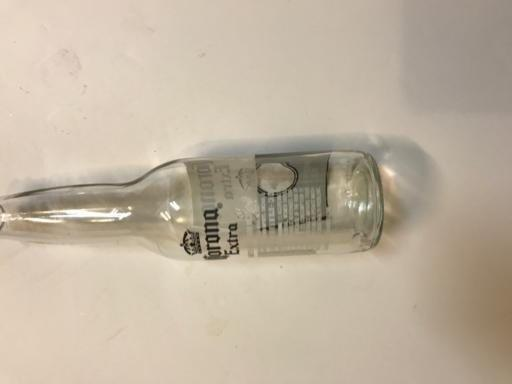botolkaca: (1, 147, 385, 262)
